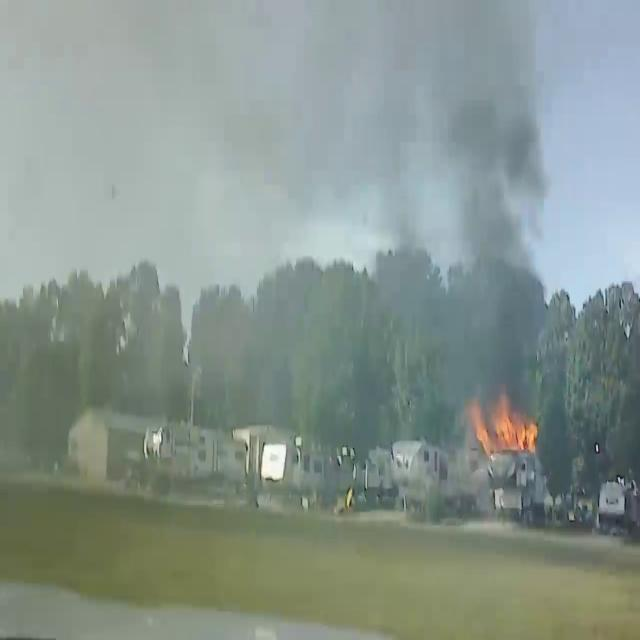Fire: (466, 391, 542, 462)
Smoke: (223, 1, 560, 414)
